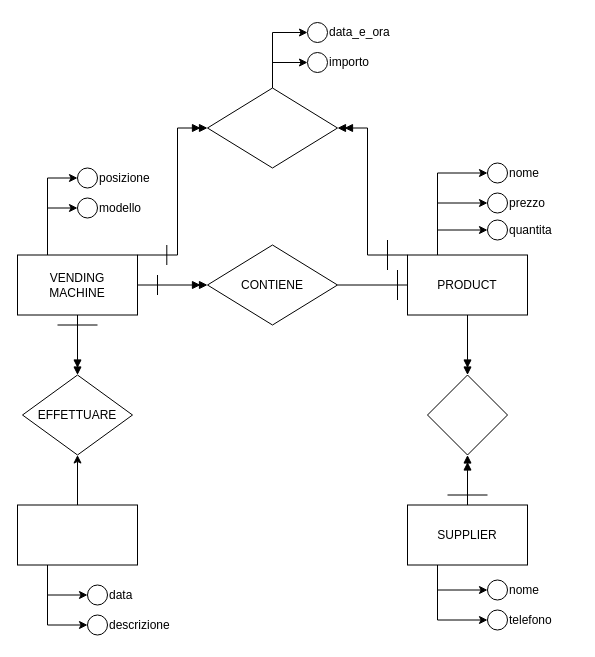
This 595x657 diagram has some shape labels left out. Here are the shapes that lost their labels. From the top down, the centre of each, then its label:
At (272,127): "TRANSACTION".
At (467,414): "FORNIRE".
At (77,534): "MAINTENANCE".
